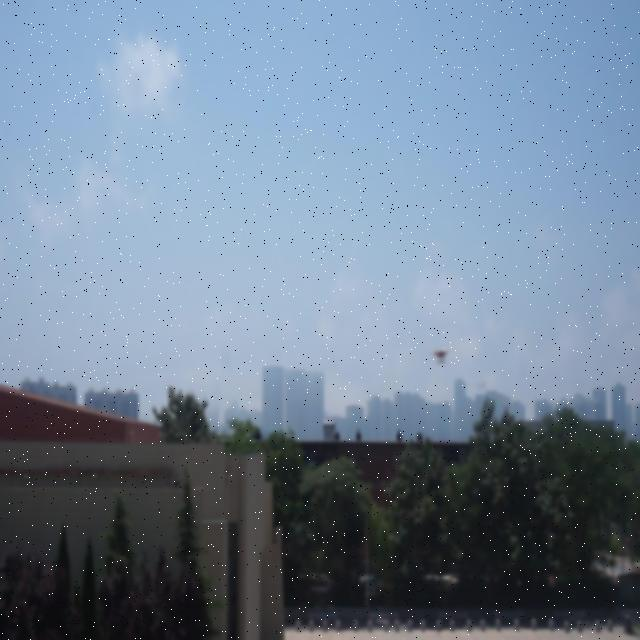UAV: (429, 348, 453, 366)
